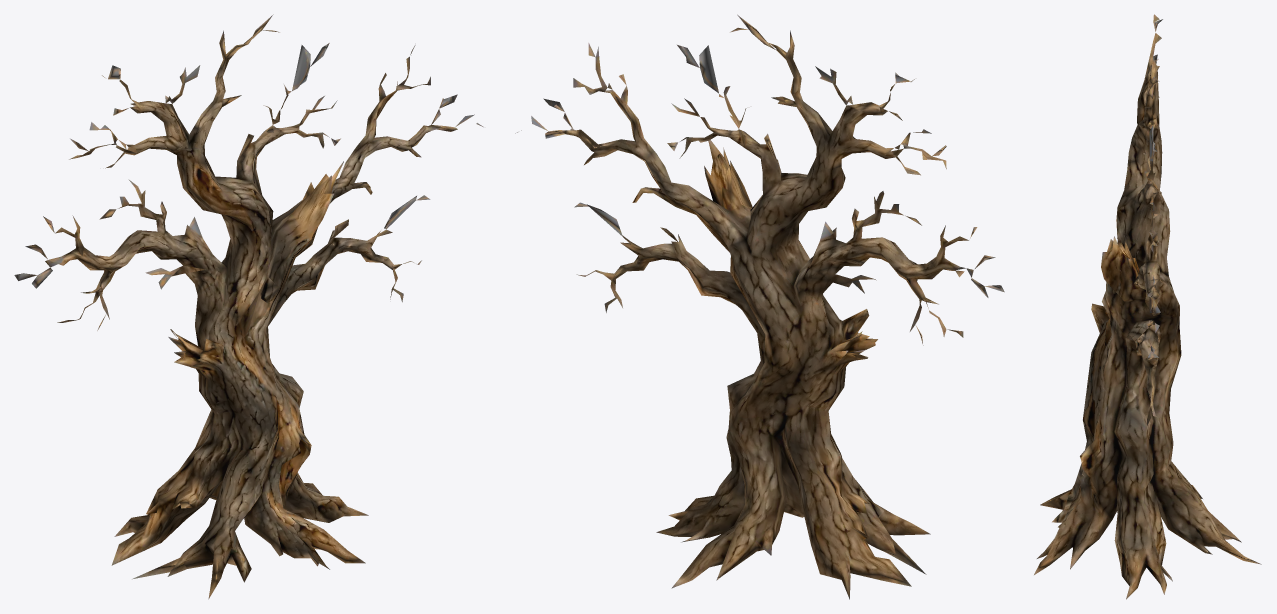
File: baum-tot.glb
The picture shows the model from 3 angles, left to right: view 1: azimuth 30°, elevation 25°; view 2: azimuth 150°, elevation 25°; view 3: azimuth 270°, elevation 25°; orthographic projection. The views are drawn at different scales.
Visible parts, largest first — view 1: baum; view 2: baum; view 3: baum.
Part boxes in pixels (bbox=[...]): baum: bbox=[14, 14, 483, 599]; baum: bbox=[515, 14, 1004, 599]; baum: bbox=[1034, 14, 1261, 599].
Size of the model in its own units: 6.24 by 6.5 by 2.77.
1 material, 1 textured.
